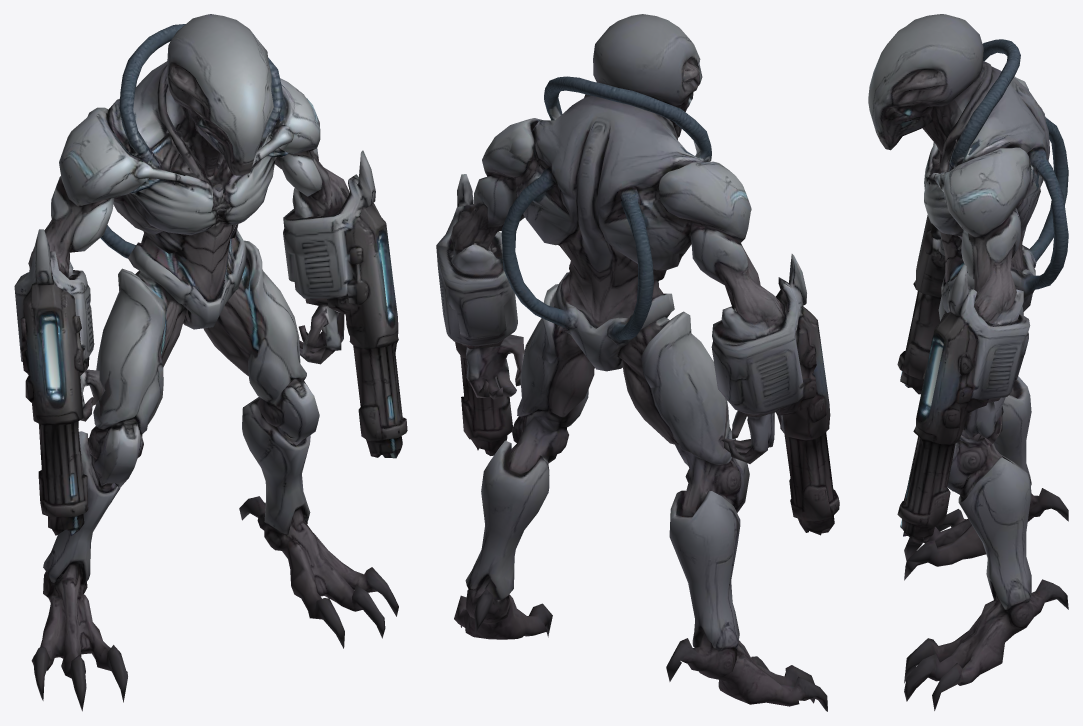
File: selected.glb
3 renders of one model, left to right at view 1: azimuth 30°, elevation 25°; view 2: azimuth 150°, elevation 25°; view 3: azimuth 270°, elevation 25°, orthographic. The views are drawn at different scales.
Parts seen in each view (by area): view 1: tripo_node_98552b8e-c689-4250-8295-4989b6eb8d30; view 2: tripo_node_98552b8e-c689-4250-8295-4989b6eb8d30; view 3: tripo_node_98552b8e-c689-4250-8295-4989b6eb8d30.
Part boxes in pixels (x1,y1,x2,y2): tripo_node_98552b8e-c689-4250-8295-4989b6eb8d30: (14,14,407,711); tripo_node_98552b8e-c689-4250-8295-4989b6eb8d30: (436,14,839,711); tripo_node_98552b8e-c689-4250-8295-4989b6eb8d30: (868,14,1068,710).
Size of the model in its own units: 0.593 by 1 by 0.2955.
Materials: 1 (1 with a texture image).
